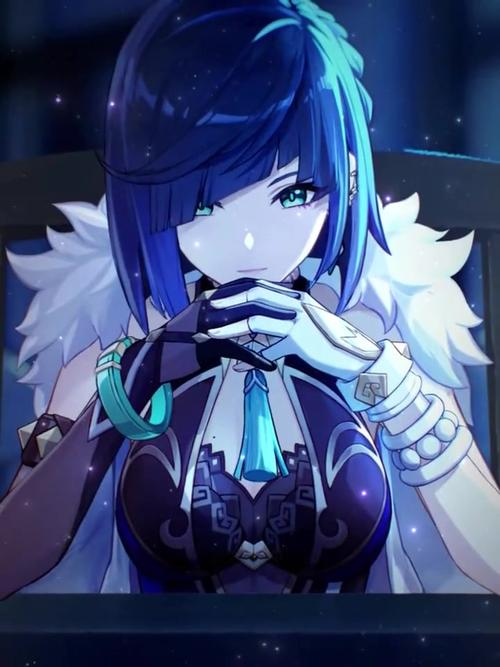夜兰: (1, 2, 500, 597)
